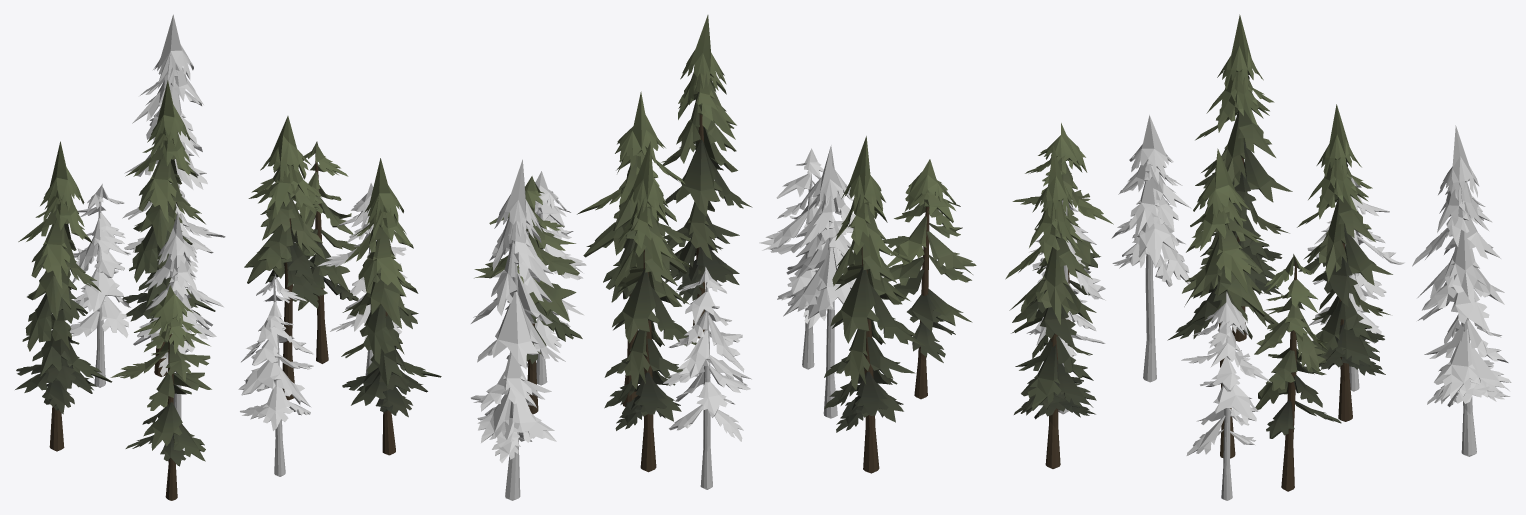
The model's file is SM_Env_Tree_Pine_Group_03.fbx.
3 renders of one model, left to right at view 1: azimuth 30°, elevation 25°; view 2: azimuth 150°, elevation 25°; view 3: azimuth 270°, elevation 25°, orthographic. The views are drawn at different scales.
Visible parts, largest first — view 1: SM_Env_Tree_Pine_Group_03; view 2: SM_Env_Tree_Pine_Group_03; view 3: SM_Env_Tree_Pine_Group_03.
Part boxes in pixels (x1,y1,x2,y2): SM_Env_Tree_Pine_Group_03: [15, 14, 441, 500]; SM_Env_Tree_Pine_Group_03: [471, 15, 976, 500]; SM_Env_Tree_Pine_Group_03: [1005, 14, 1511, 500].
Size of the model in its own units: 1865 by 1423 by 1977.
